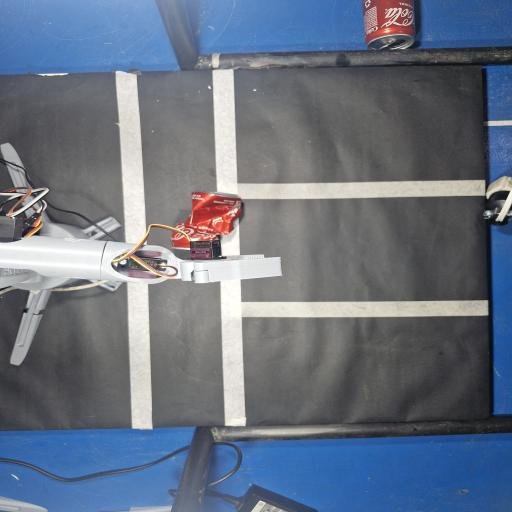lata_defectuoso: (176, 191, 242, 241), (171, 232, 189, 249)
